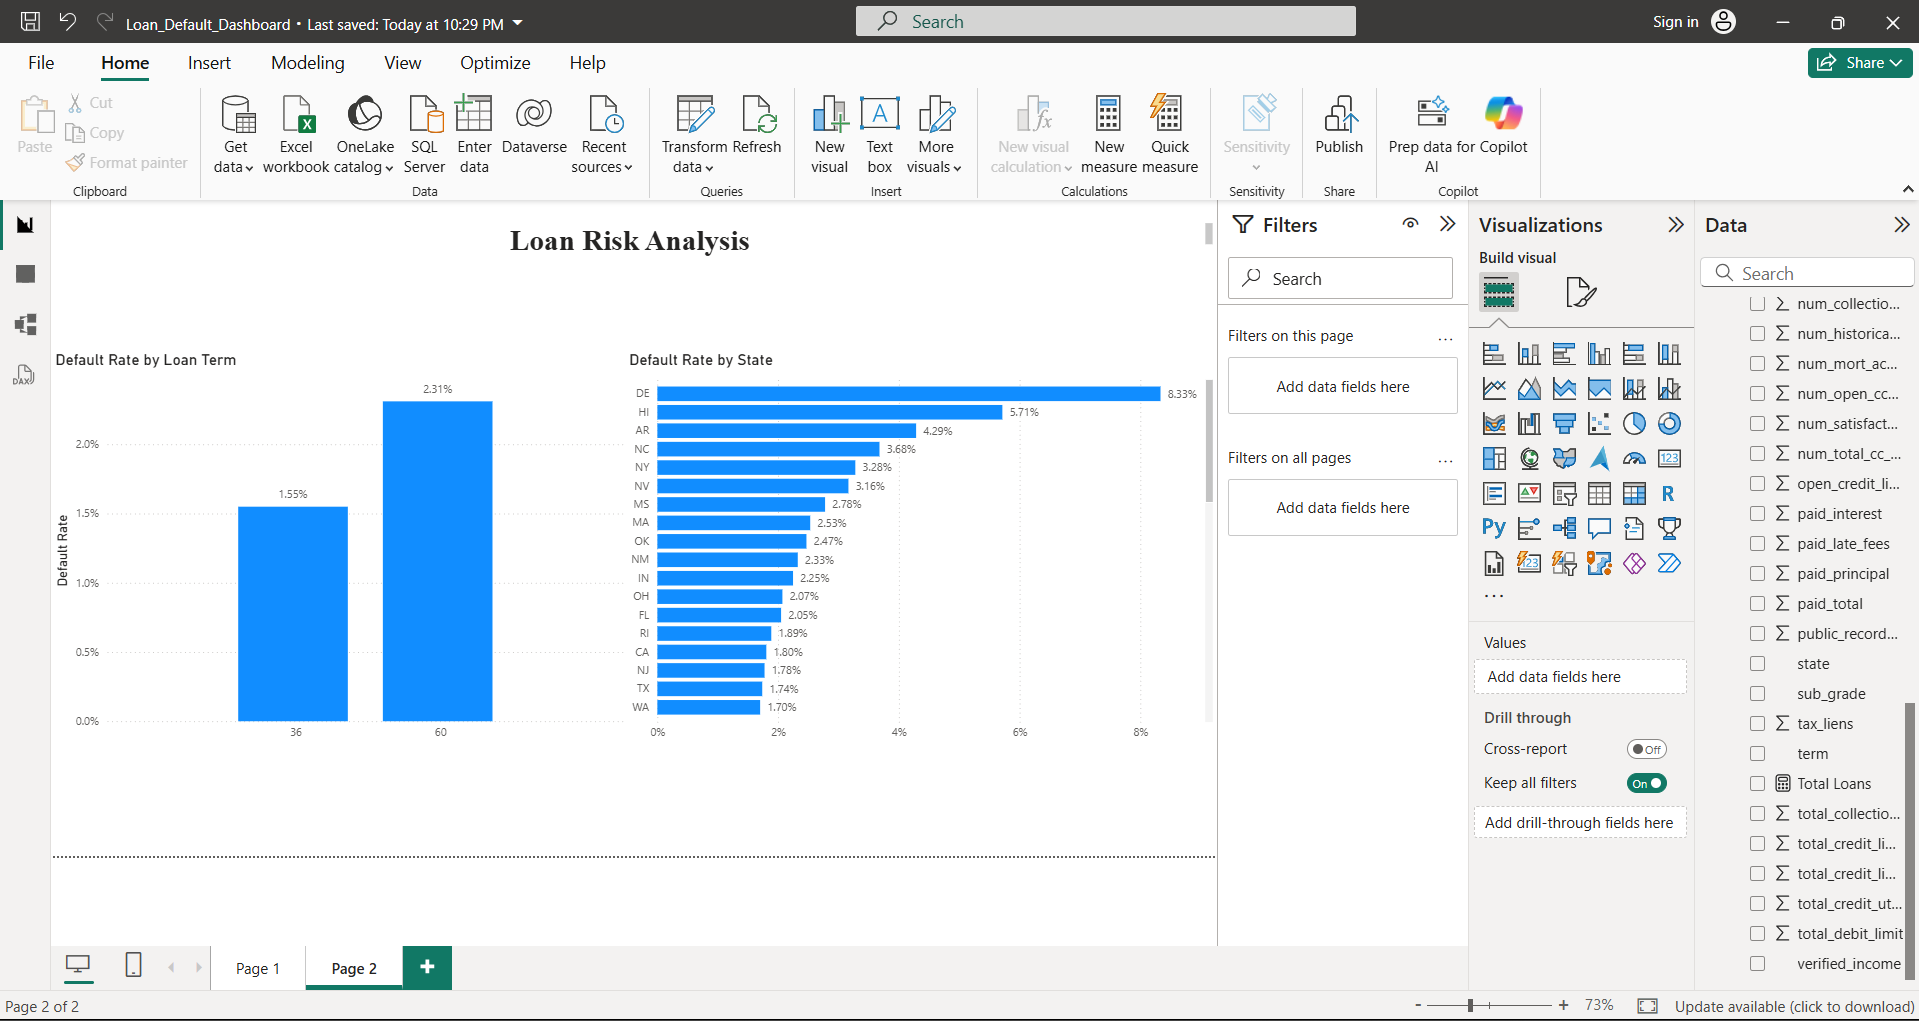

This screenshot's page, from the dashboard's own definition file:
{"tool":"powerbi","page":{"name":"Page 2","canvas":[1280,720],"ordinal":1},"visuals":[{"type":"clusteredColumnChart","title":"Default Rate by Loan Term","fields":{"Category":["cleaned_loan_data.term"],"Y":["cleaned_loan_data.Default Rate"]},"box":[0,164.7,639.5,437.7],"z":0},{"type":"clusteredBarChart","title":"Default Rate by State","fields":{"Y":["Avg(cleaned_loan_data.loan_default)"],"Category":["cleaned_loan_data.state"]},"box":[629.8,164.7,650.4,437.7],"z":1000},{"type":"textbox","box":[0,20,1280,46],"z":2000}]}

Visuals, with their boxes on the page's 1280x720 design canvas (x1, y1, x2, y2). These are canvas units, not pixel positions in the 1919x1021 screenshot, which may show the page scaled, cropped or inside an application window:
"Default Rate by Loan Term" clusteredColumnChart: [0,165,640,602]
"Default Rate by State" clusteredBarChart: [630,165,1280,602]
textbox: [0,20,1280,66]
